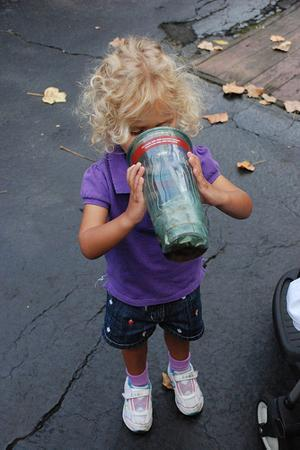person: (77, 38, 253, 433)
